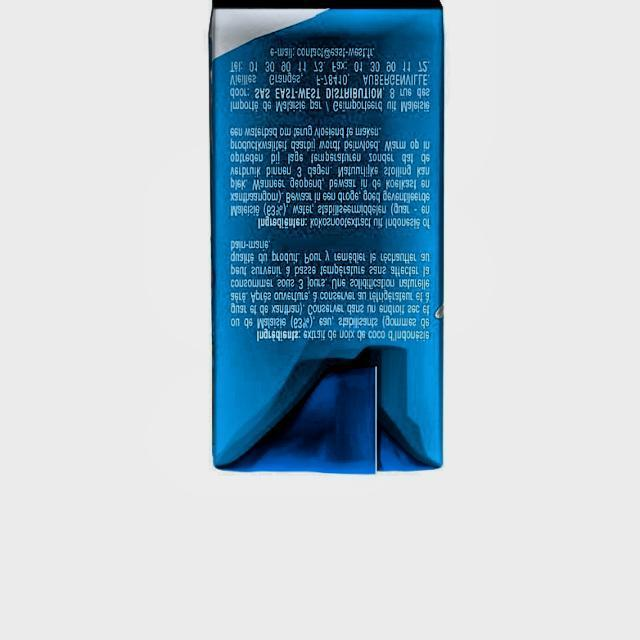cardboard: (207, 0, 444, 476)
